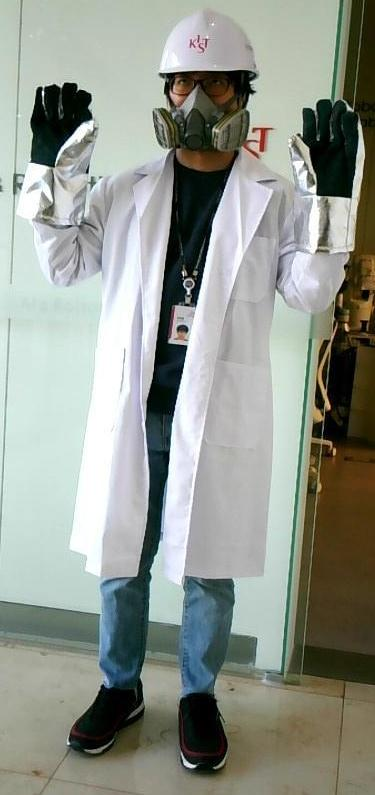lab_coat: (75, 184, 295, 571)
